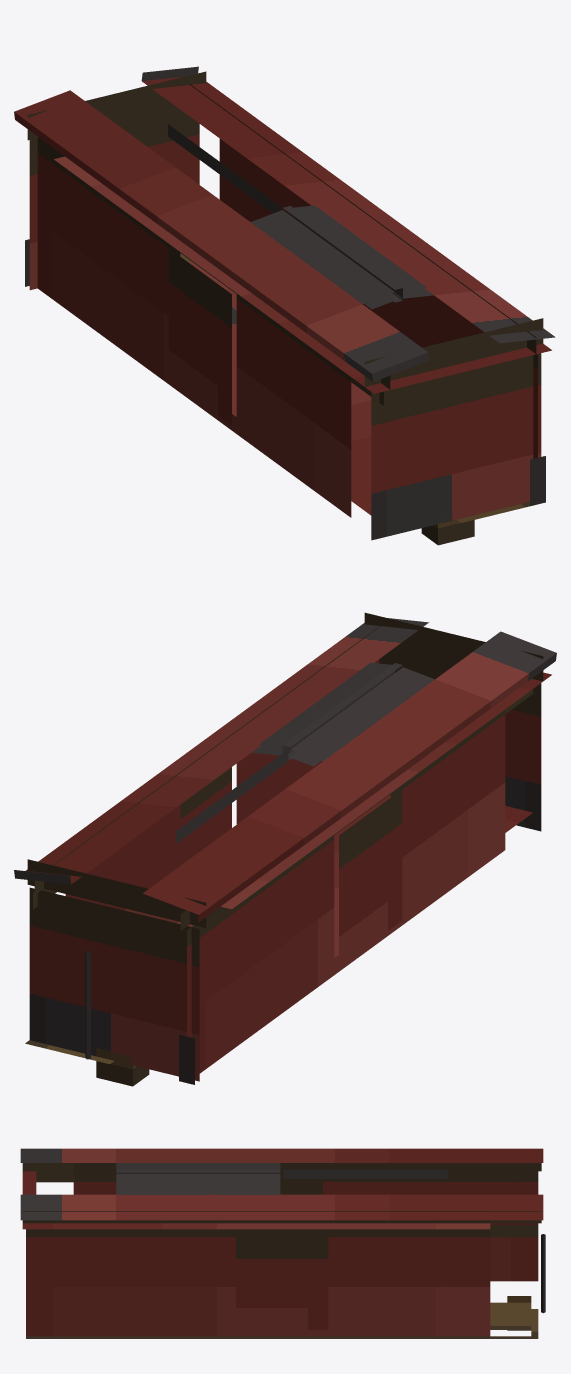
File: default_railcar.obj
3 renders of one model, top to bottom at view 1: azimuth 30°, elevation 25°; view 2: azimuth 150°, elevation 25°; view 3: azimuth 270°, elevation 25°, orthographic. The views are drawn at different scales.
Parts seen in each view (by area): view 1: FRAME, DOOR_1; view 2: FRAME, DOOR_1, DOOR_2, BRAKE_WHEEL; view 3: FRAME, DOOR_2, DOOR_1, BRAKE_WHEEL.
Part boxes in pixels (left/top/right/bottom): FRAME: left=14, top=66, right=555, bottom=545; DOOR_1: left=168, top=248, right=231, bottom=425; FRAME: left=14, top=612, right=556, bottom=1086; DOOR_1: left=339, top=789, right=402, bottom=966; DOOR_2: left=180, top=767, right=231, bottom=865; BRAKE_WHEEL: left=85, top=951, right=90, bottom=1059; FRAME: left=20, top=1148, right=543, bottom=1338; DOOR_2: left=236, top=1234, right=328, bottom=1329; DOOR_1: left=280, top=1179, right=322, bottom=1194; BRAKE_WHEEL: left=541, top=1234, right=545, bottom=1313.
Size of the model in its own units: 3 by 3.91 by 9.94.
